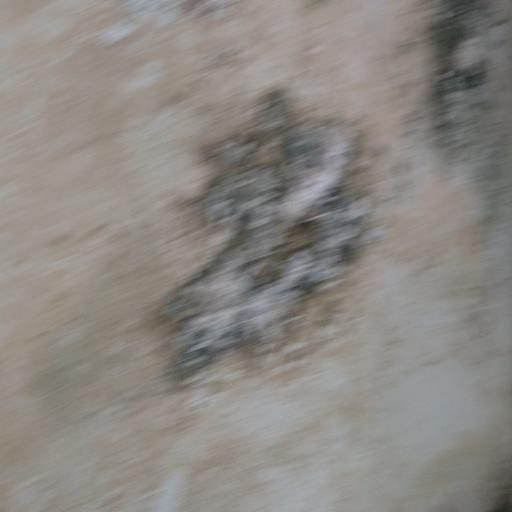algae: (134, 71, 435, 437)
